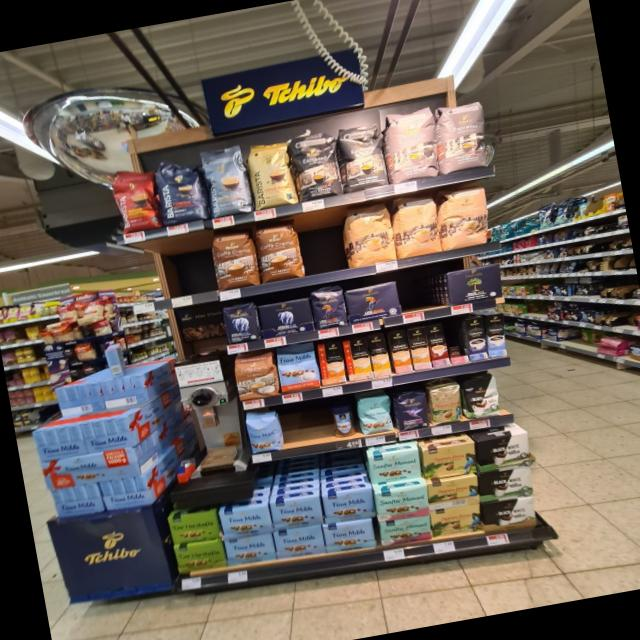AB Bohne: (220, 299, 260, 345)
AB Gemahlen: (258, 296, 316, 340)
BM Gemahlen: (444, 262, 506, 304)
BW Bohne: (460, 372, 504, 420)
BW Gemahlen: (474, 431, 536, 474), (476, 465, 537, 503), (480, 494, 537, 534)
Barista CB: (243, 138, 300, 210)
Barista CC: (196, 142, 254, 218)
Barista Espresso: (151, 151, 210, 226)
Barista Kolumbien: (108, 164, 163, 236)
C Fino Bohne: (392, 384, 431, 432)
CC Mild: (435, 180, 494, 250), (341, 198, 397, 267), (388, 190, 444, 258)
CC Vollmundig: (231, 351, 280, 402)
CC Vollmundig 36 Pads: (252, 215, 305, 284), (206, 223, 259, 290)
Colombia BB Bohne: (426, 381, 466, 426)
Colombia BB Gemahlen: (420, 439, 481, 483), (427, 473, 481, 511), (428, 502, 484, 538)
Empty Shelf: (138, 230, 216, 300), (296, 207, 351, 275), (278, 404, 335, 448), (396, 270, 448, 313), (443, 318, 468, 358)
Espresso Aromatisch: (381, 106, 443, 182), (434, 96, 492, 173)
Espresso Kraftig: (288, 127, 344, 202)
Espresso S Art: (334, 119, 390, 192)
FM 36 Pads: (274, 341, 322, 394)
FM Bohne: (241, 407, 284, 455)
FM Gemahlen: (268, 491, 324, 534), (320, 484, 377, 526), (218, 502, 273, 542), (321, 516, 376, 556), (272, 524, 325, 560), (222, 533, 276, 567)
FM Instant: (328, 401, 359, 440)
Herzhatfe Mundig: (164, 507, 222, 547), (172, 536, 228, 575)
LG Bohne: (308, 284, 349, 331)
LG Gemahlen: (344, 281, 402, 324)
SM Bohne: (353, 391, 395, 436)
SM Gemahlen: (366, 444, 424, 486), (373, 482, 432, 522), (378, 511, 434, 548)
Simo CCMild: (342, 335, 374, 382)
Simo CCMild bigpack: (367, 332, 392, 376)
Simo CCVollmundig: (316, 340, 348, 386)
Simo CCVollmundig bigpack: (388, 328, 412, 374)
Simo Decaff: (407, 326, 432, 370)
Simo Es Caramel: (425, 322, 450, 367)
Simo Es Kraft: (465, 316, 488, 361)
Simo Es Vanilla: (486, 312, 507, 357)
